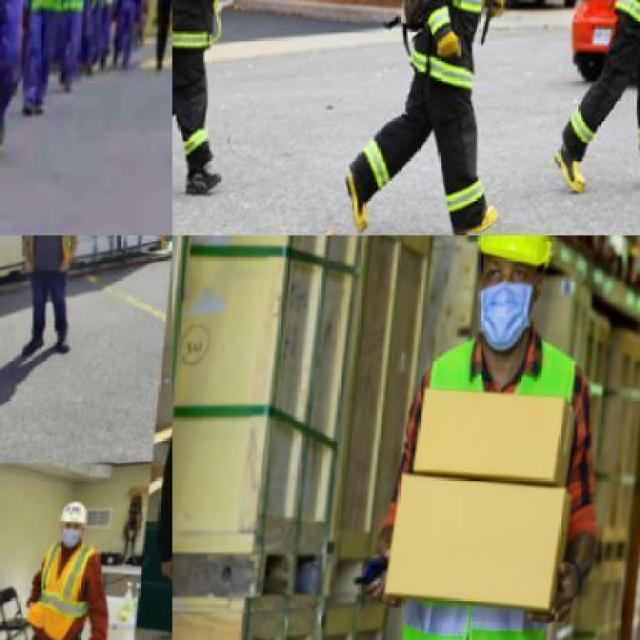Vest: (403, 336, 588, 638), (403, 0, 505, 86), (29, 540, 109, 638), (172, 0, 243, 55), (15, 235, 86, 271), (35, 0, 76, 18), (71, 0, 98, 17)
